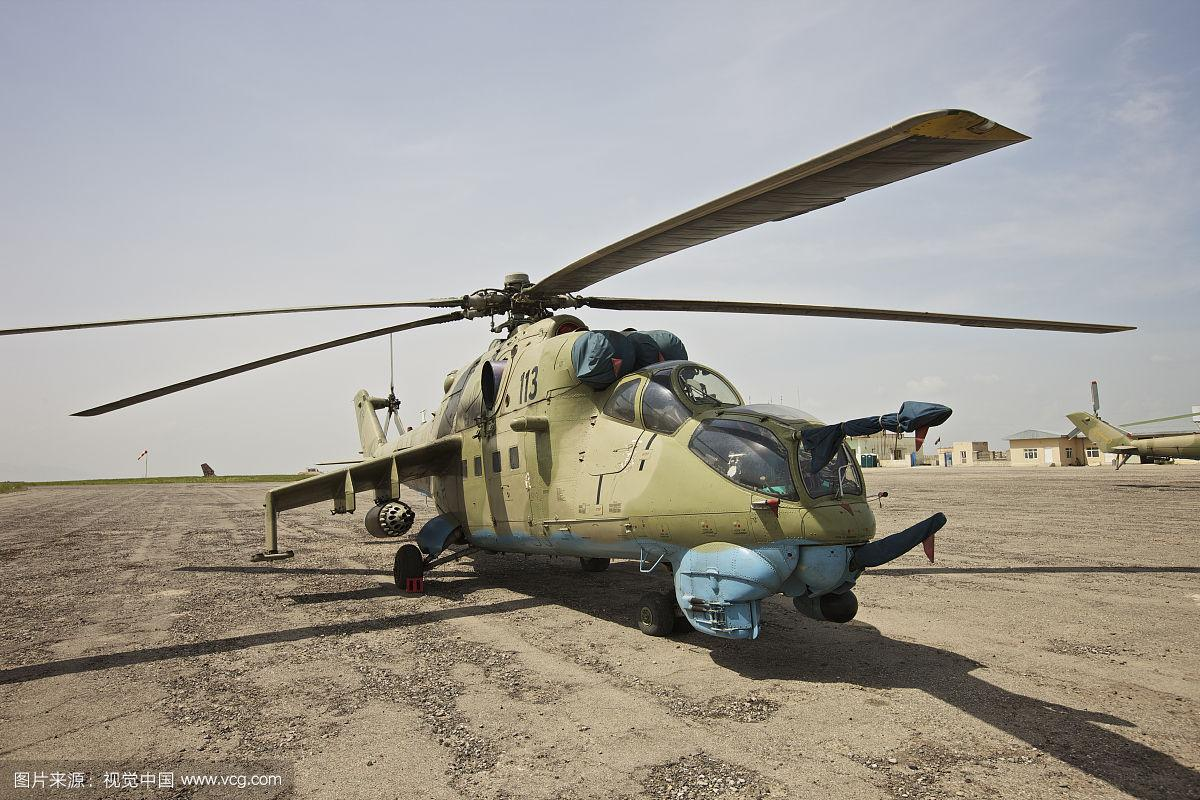airplane: (1, 103, 1083, 641)
